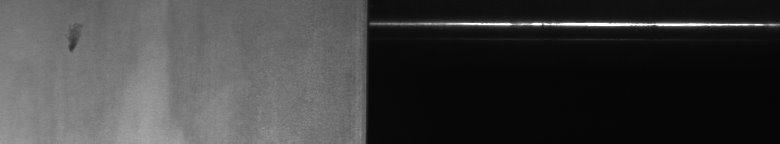fi: (63, 20, 84, 57)
